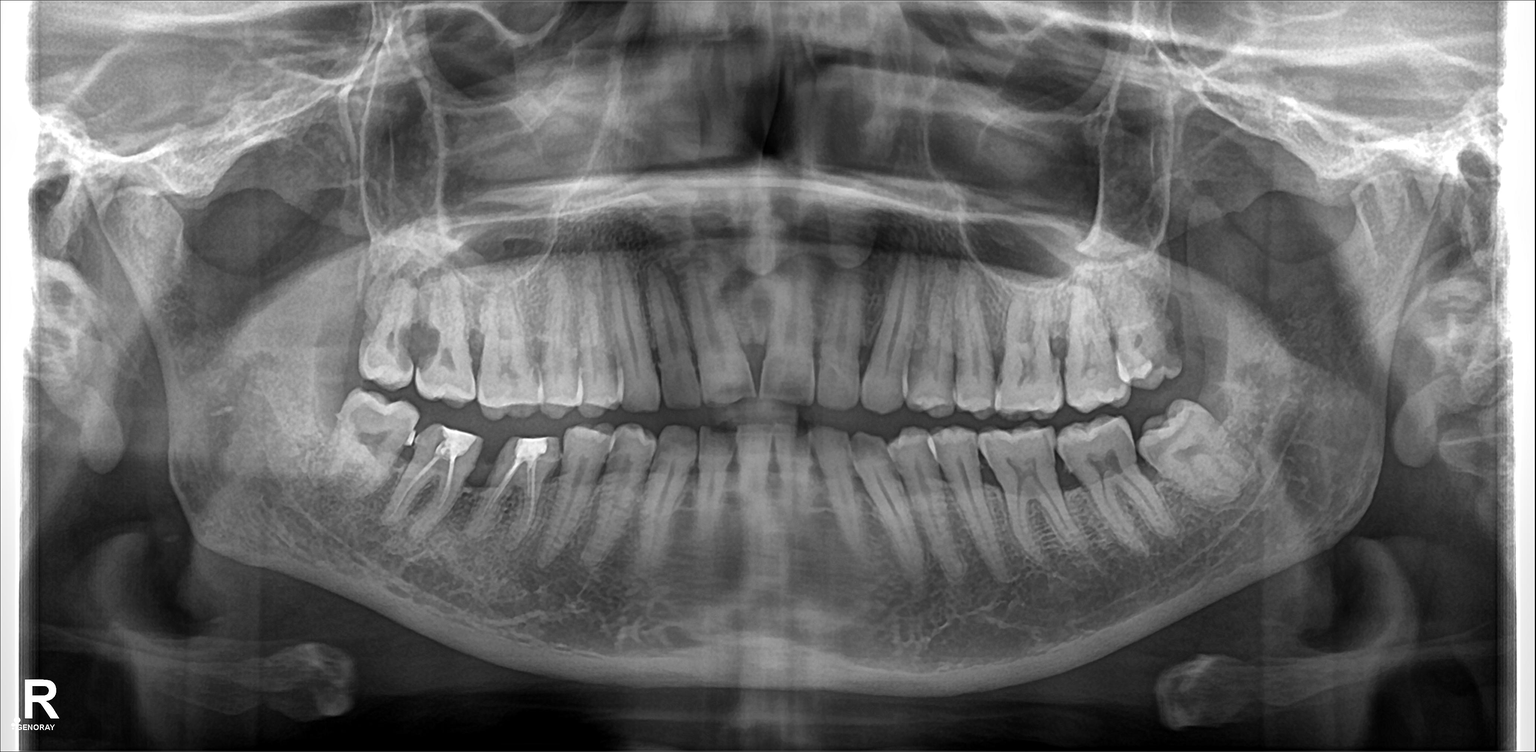Dental Caries: (346, 411, 396, 459), (395, 324, 444, 365)
Endodontically Treated Tooth: (421, 417, 480, 547), (499, 428, 548, 556)
Impacted Third Molar: (1147, 410, 1256, 498)
